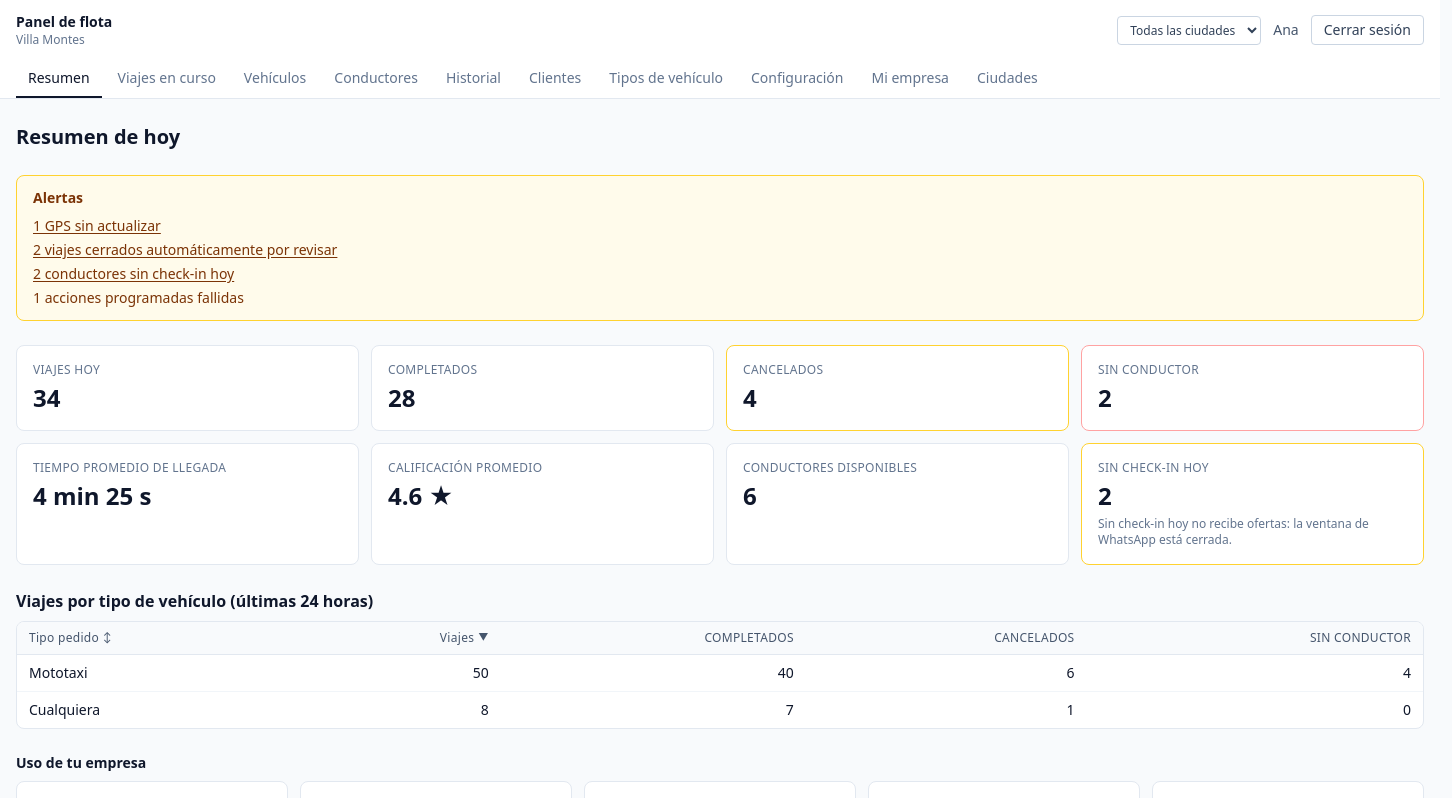
it: navegación › el enlace de una alerta navega a la vista correspondiente
The width and height of the screenshot is (1452, 798).
Click the link "2 conductores sin check-in hoy": (134, 274) [33, 264, 234, 283]
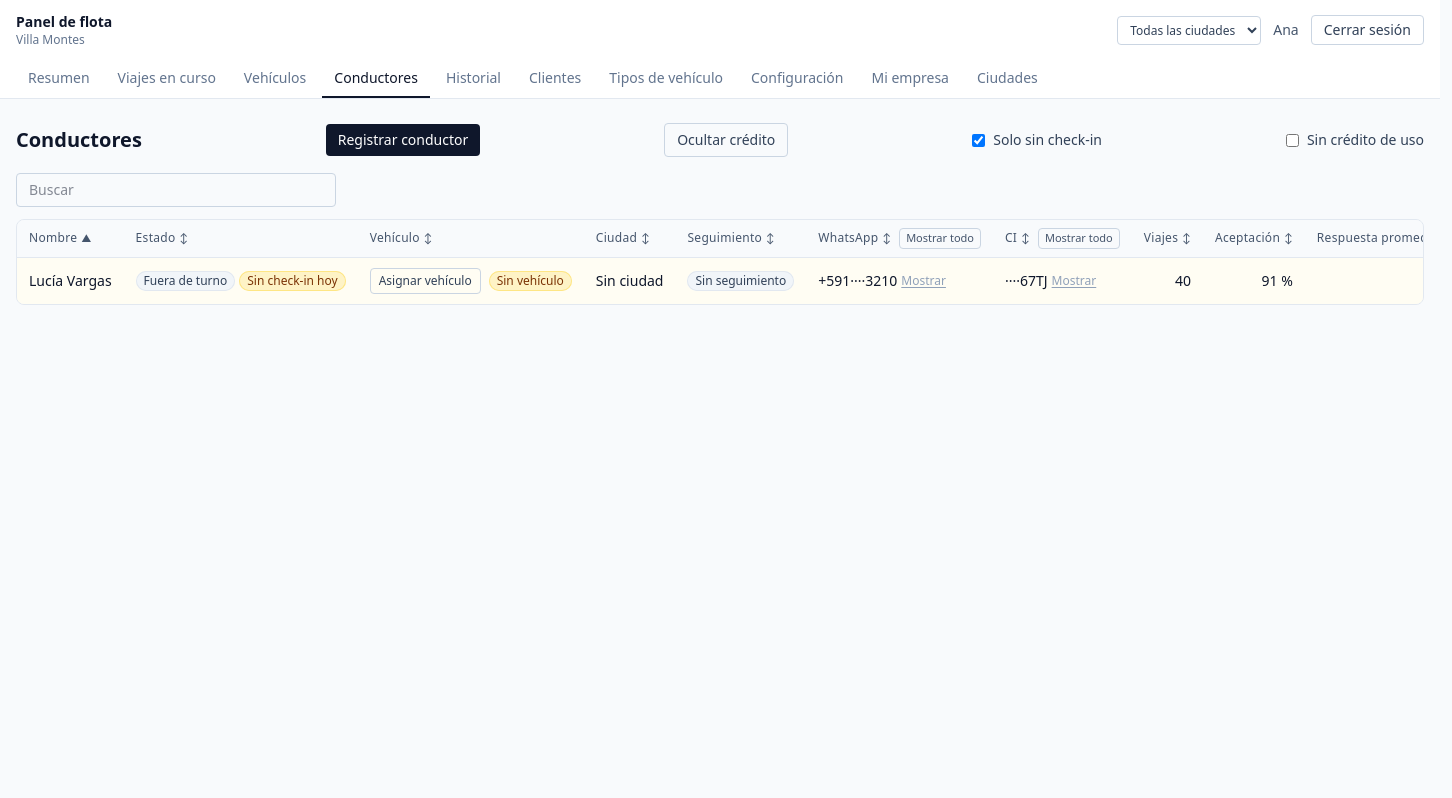
Check: the heading "Conductores" is shown, box [16, 126, 142, 154]
